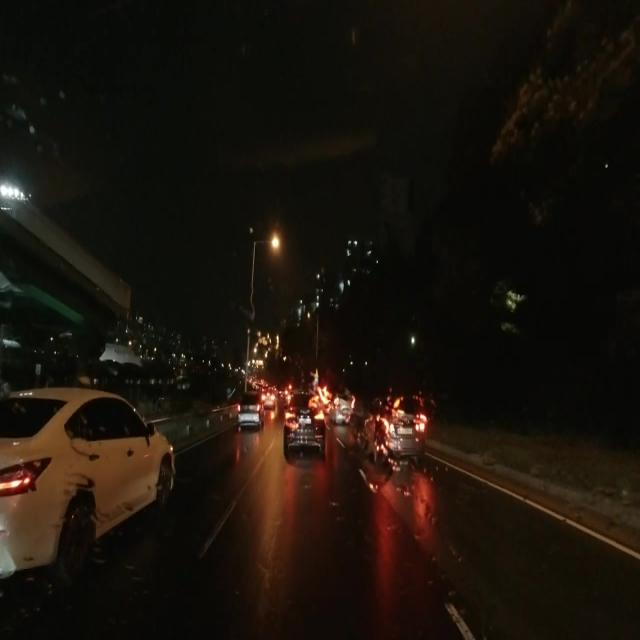Car: (5, 383, 177, 569), (363, 388, 423, 469), (280, 391, 327, 457), (326, 393, 354, 422), (236, 392, 259, 423)
